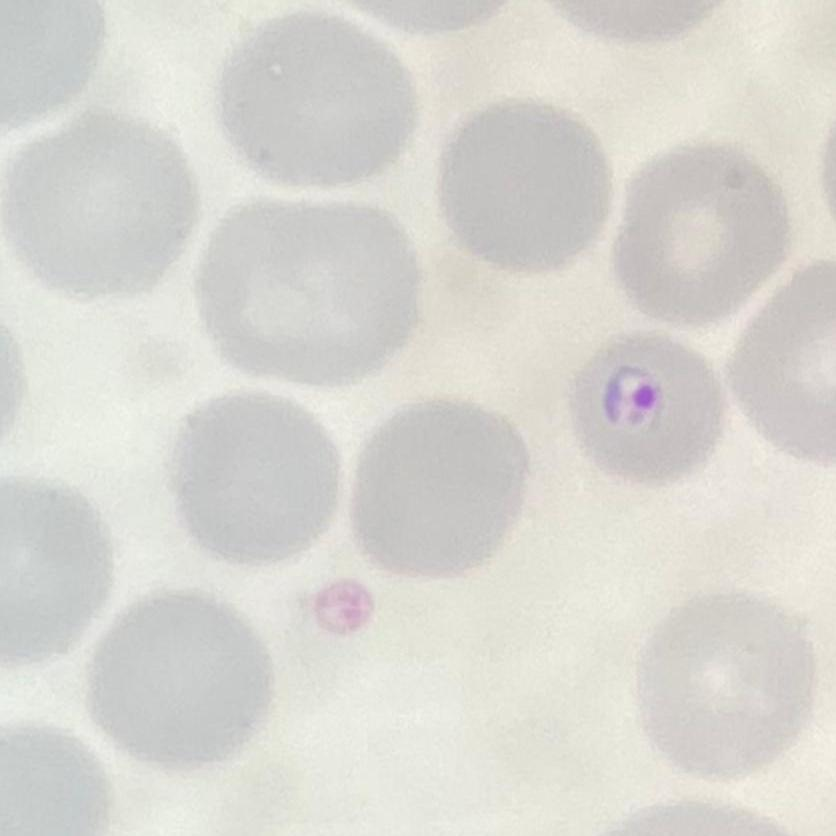Infected: (577, 332, 724, 486)
Uninfected: (197, 192, 423, 383), (0, 112, 196, 296), (223, 5, 420, 185), (637, 584, 811, 778), (85, 589, 268, 766), (350, 400, 528, 580), (617, 142, 787, 325), (168, 392, 343, 560), (440, 101, 610, 269), (0, 475, 111, 670)
